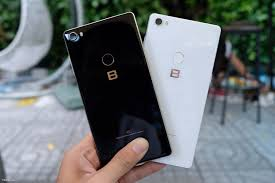bphone: (56, 11, 174, 171)
